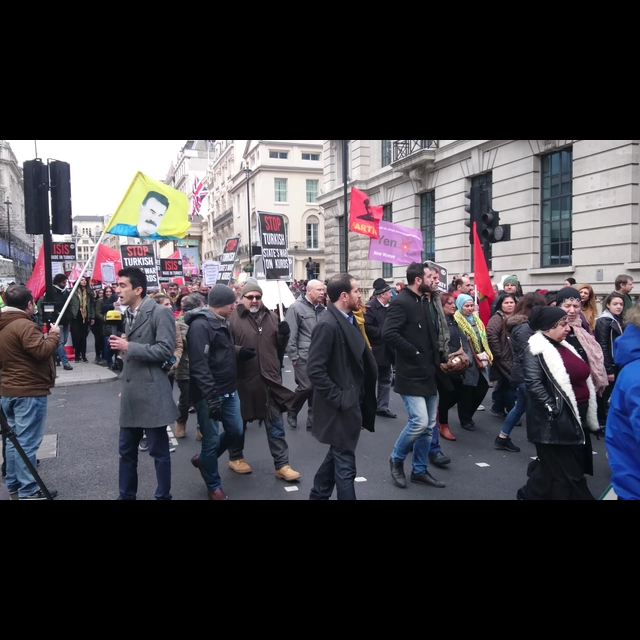APO: (140, 188, 170, 234)
